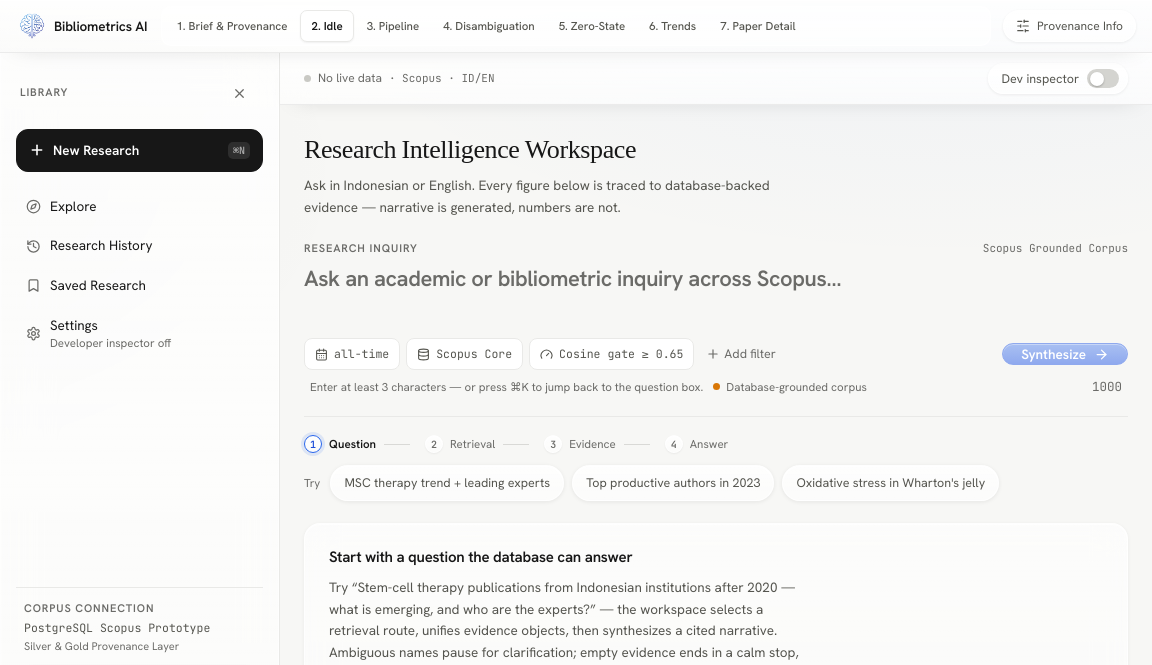
Test case: Workspace — answer flow › posts the question and renders the grounded brief with a route badge
Type "MSC therapy trend in Indonesia after 2020?" into the text box named "research question" at (716, 293), box [304,265,1128,321]
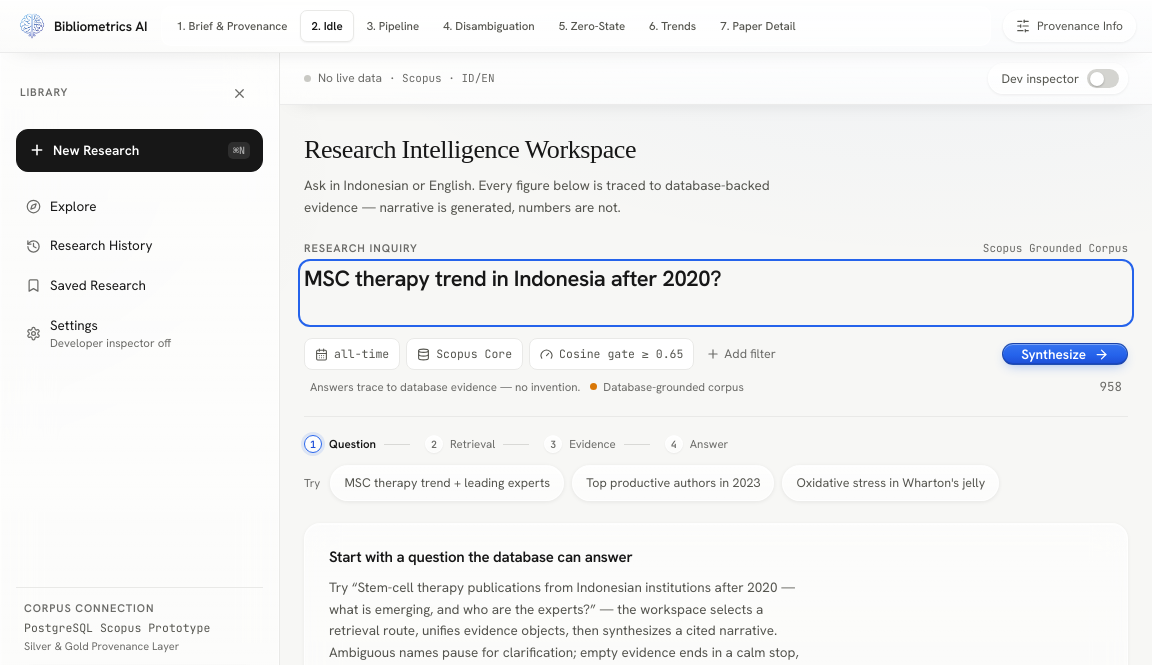
Click the button "Synthesize" at (1065, 354), box [1002,342,1128,365]
(page scrolled)
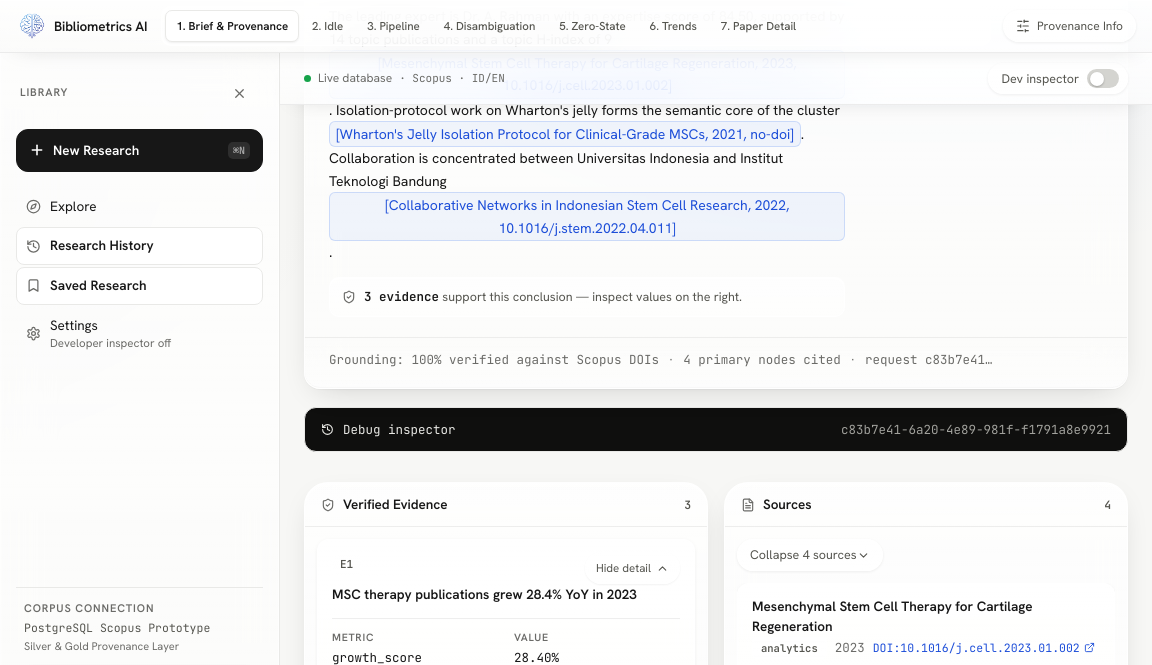
Expected: the text "Grounding: 100% verified against Scopus DOIs" is shown, [329,350,659,370]
